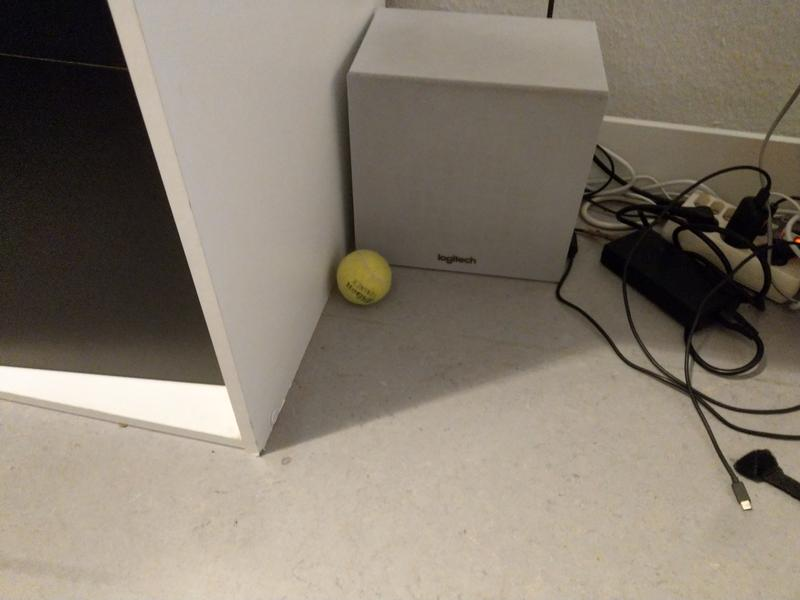Tennisball: (332, 246, 395, 308)
